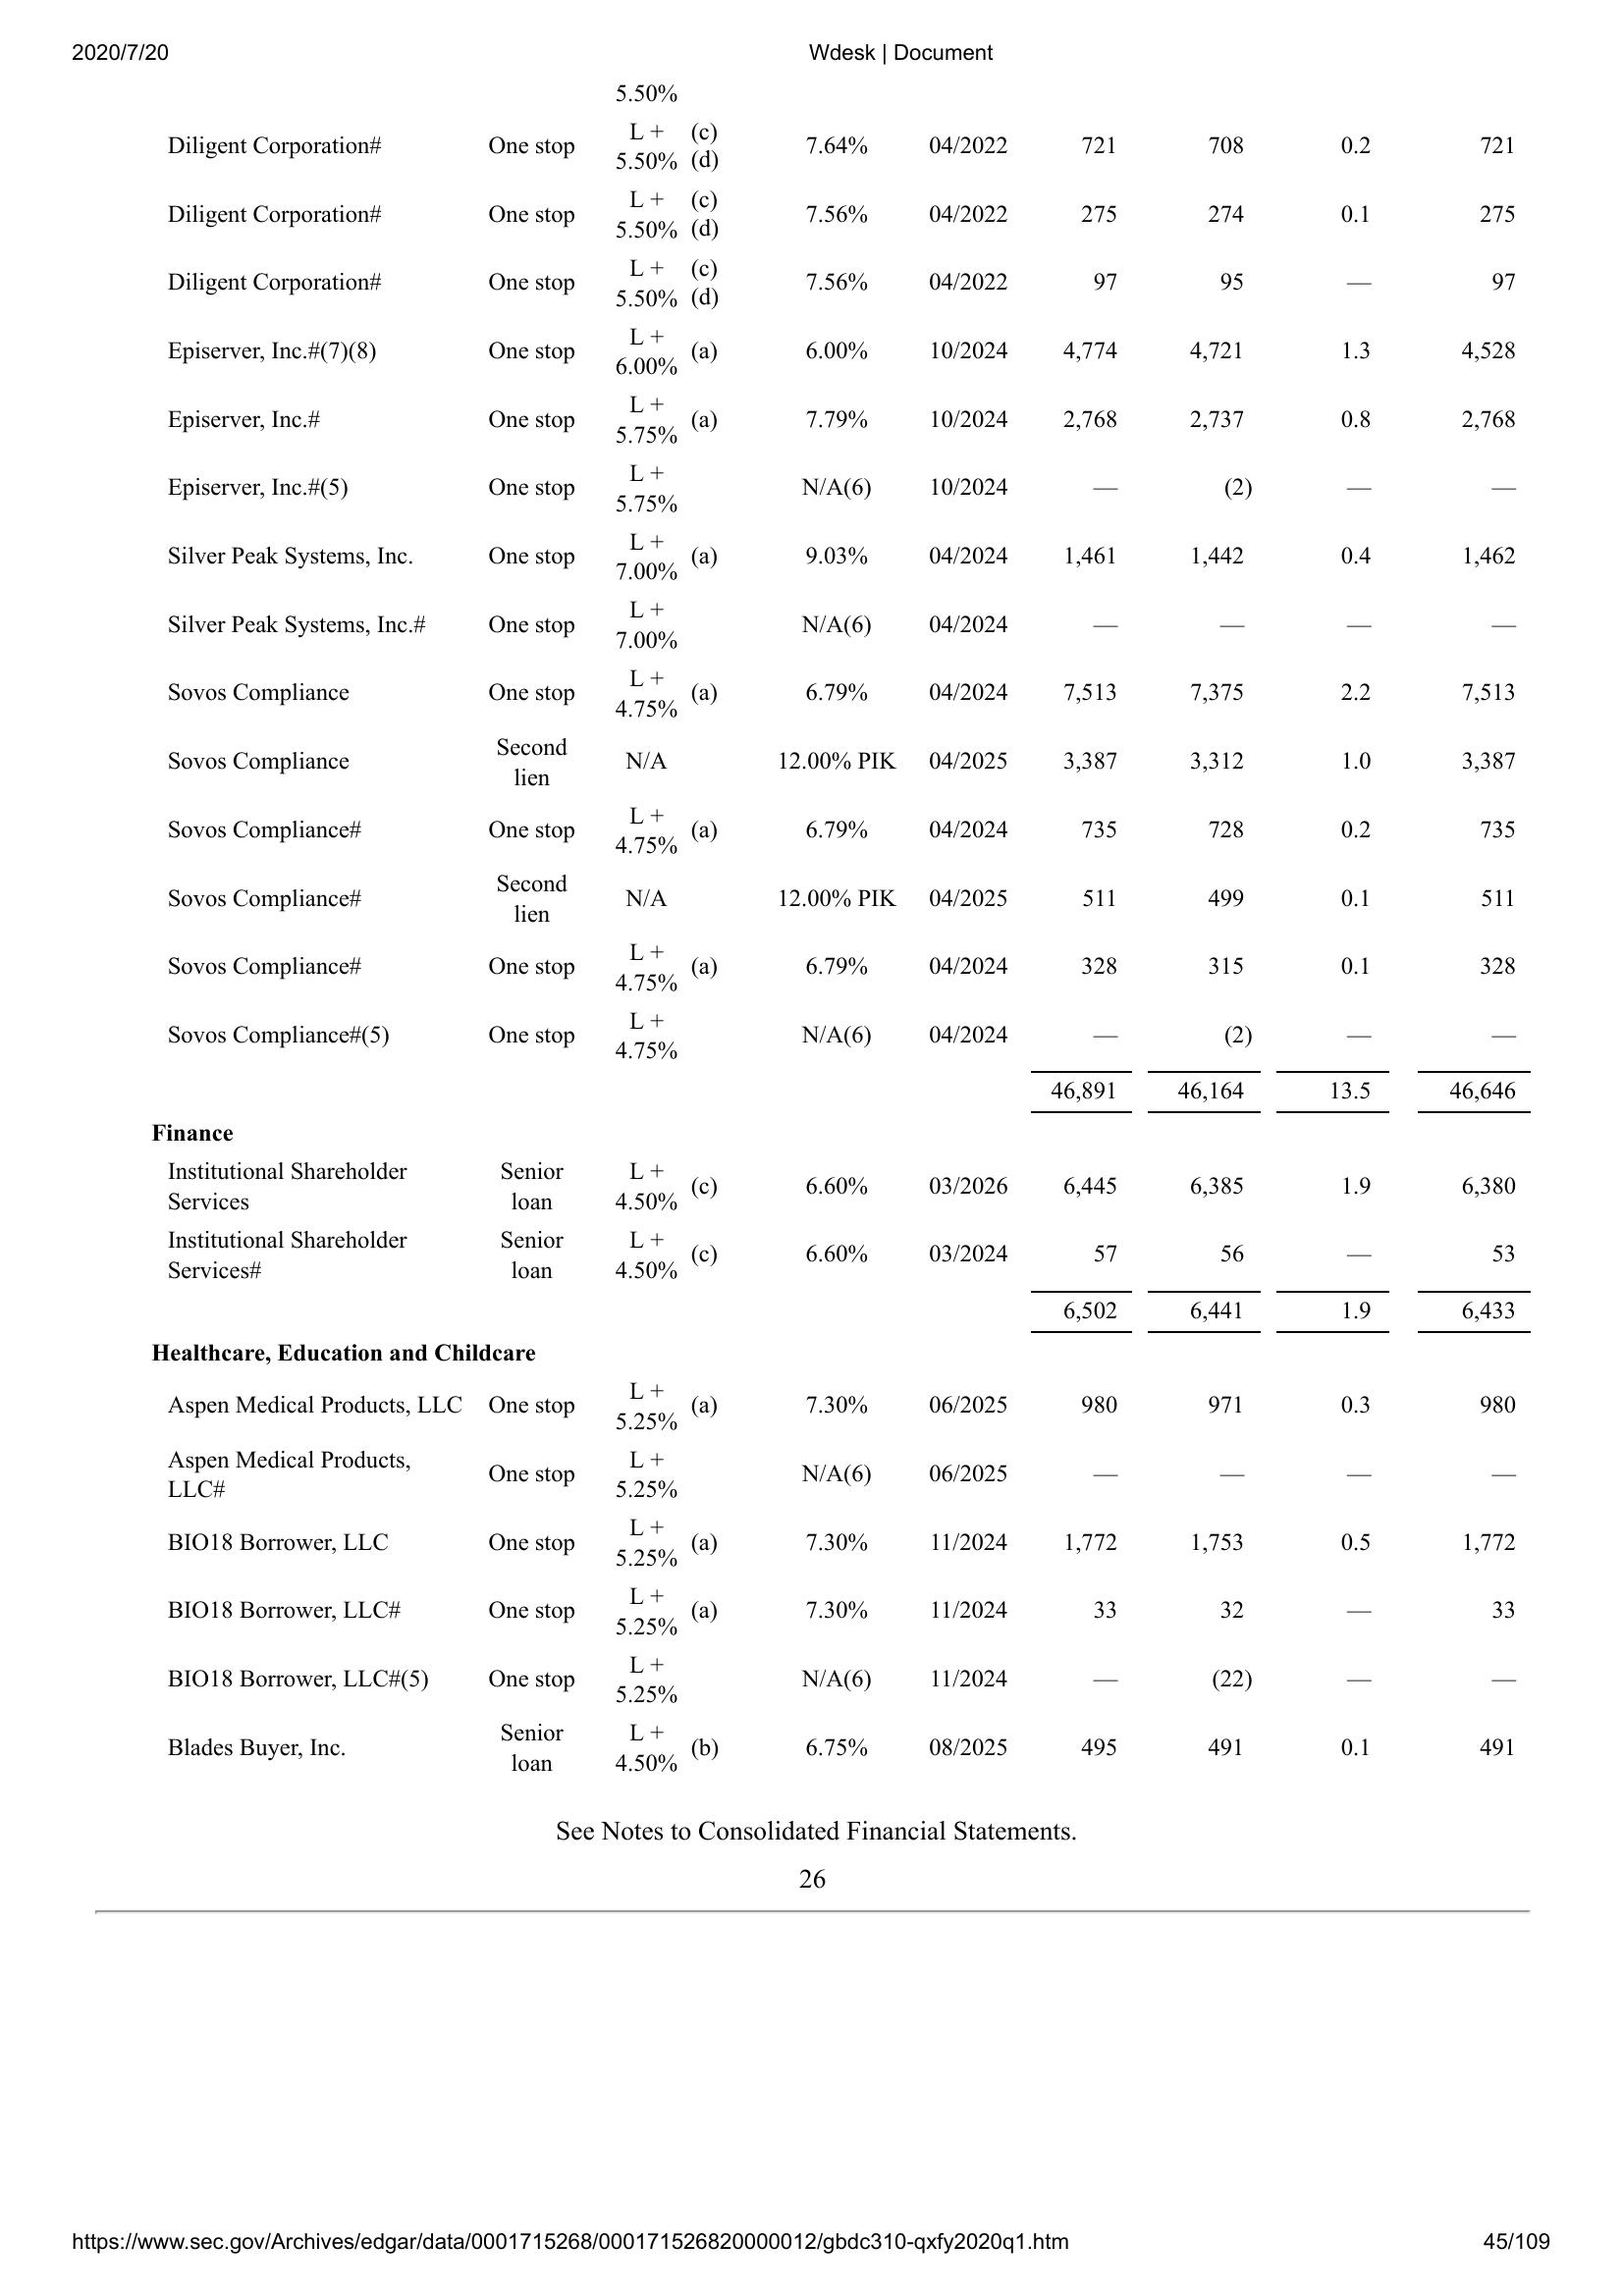table: (133, 74, 1542, 1789)
